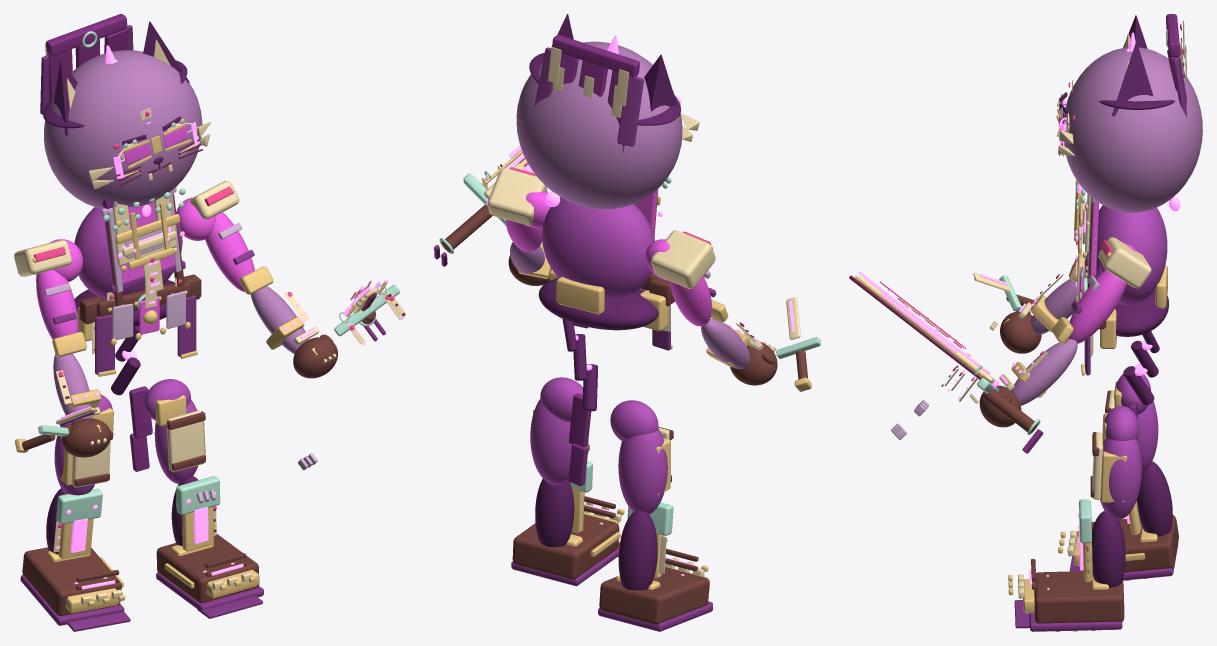
Rendered from enemy.glb.
3 views of the same model, side by side, from view 1: azimuth 30°, elevation 25°; view 2: azimuth 150°, elevation 25°; view 3: azimuth 270°, elevation 25° (orthographic). The views are drawn at different scales.
Visible parts, largest first — view 1: Head, L_Foot, R_Foot, Torso, L_UpperArm, R_UpperArm, R_LowerArm, R_ThighPlate, L_Fist, R_Fist, CapeTopRoll, L_LowerArm (+37 smaller); view 2: Head, Torso, L_Foot, R_Foot, L_Thigh, Hips, L_Shin, R_Thigh, L_ShoulderPad, R_Shin, R_ShoulderPad, CapeTopRoll (+23 smaller); view 3: Head, R_Foot, Torso, R_Thigh, R_Shin, R_UpperArm, L_Shin, L_Foot, R_LowerArm, Hips, R_ShoulderPad, L_Fist (+17 smaller).
Boxes of the visible parts, <box> form: Head: <box>44,50,202,208</box>; L_Foot: <box>22,547,121,615</box>; R_Foot: <box>156,534,259,602</box>; Torso: <box>74,207,182,298</box>; L_UpperArm: <box>36,270,78,339</box>; R_UpperArm: <box>205,212,254,292</box>; R_LowerArm: <box>251,286,308,353</box>; R_ThighPlate: <box>166,410,204,472</box>; L_Fist: <box>62,418,110,457</box>; R_Fist: <box>293,337,337,378</box>; CapeTopRoll: <box>46,14,127,55</box>; L_LowerArm: <box>53,353,92,423</box>; Head: <box>516,41,682,209</box>; Torso: <box>542,197,654,298</box>; L_Foot: <box>599,567,709,624</box>; R_Foot: <box>512,514,619,579</box>; L_Thigh: <box>618,428,667,514</box>; Hips: <box>538,278,658,330</box>; L_Shin: <box>618,511,657,590</box>; R_Thigh: <box>530,399,571,484</box>; L_ShoulderPad: <box>651,230,715,288</box>; R_Shin: <box>535,478,574,547</box>; R_ShoulderPad: <box>487,168,547,225</box>; CapeTopRoll: <box>552,35,639,76</box>; Head: <box>1063,47,1202,212</box>; R_Foot: <box>1034,571,1124,623</box>; Torso: <box>1095,205,1167,305</box>; R_Thigh: <box>1100,438,1141,519</box>; R_Shin: <box>1092,511,1125,587</box>; R_UpperArm: <box>1069,270,1126,343</box>; L_Shin: <box>1136,461,1172,536</box>; L_Foot: <box>1091,515,1178,572</box>; R_LowerArm: <box>1011,339,1077,405</box>; Hips: <box>1115,289,1168,336</box>; R_ShoulderPad: <box>1098,237,1151,288</box>; L_Fist: <box>1000,311,1041,353</box>.
Size of the model in its own units: 2.86 by 4.22 by 2.37.
